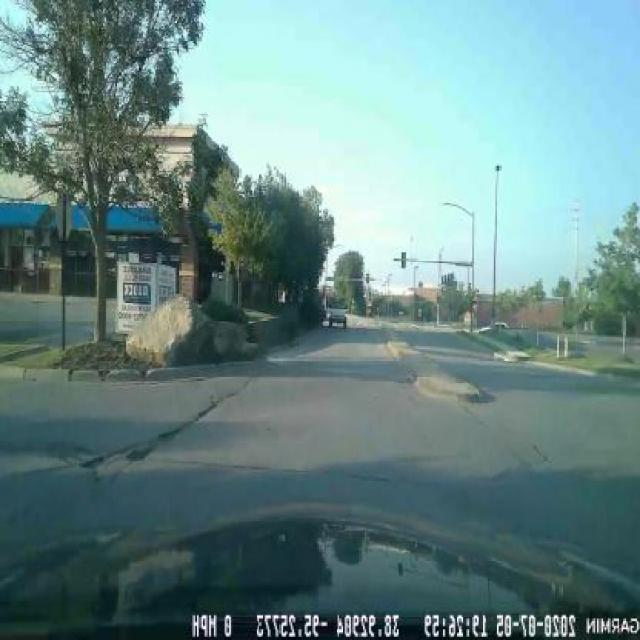pothole: (121, 439, 154, 470), (153, 420, 184, 449), (79, 446, 107, 477)
